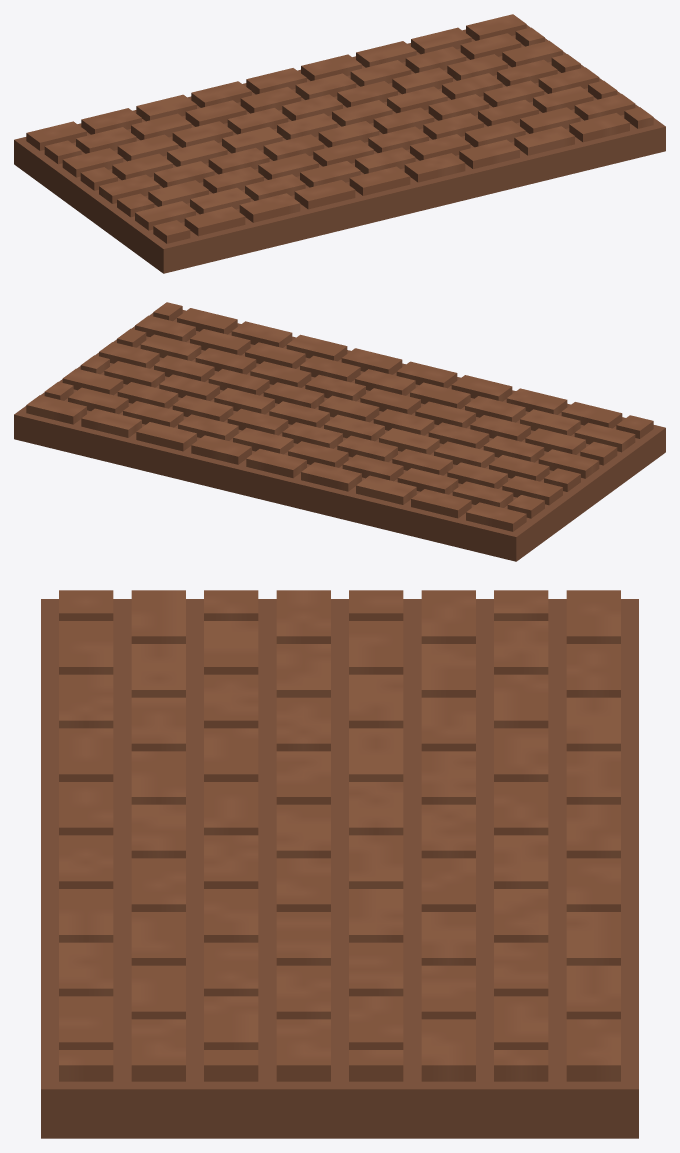
Rendered from roofpanel2.fbx.
The picture shows the model from 3 angles, top to bottom: view 1: azimuth 30°, elevation 25°; view 2: azimuth 150°, elevation 25°; view 3: azimuth 270°, elevation 25°; orthographic projection. The views are drawn at different scales.
Parts seen in each view (by area): view 1: roofpanel2; view 2: roofpanel2; view 3: roofpanel2.
Part boxes in pixels (left/top/right/bottom): roofpanel2: left=14, top=14, right=665, bottom=273; roofpanel2: left=14, top=302, right=665, bottom=561; roofpanel2: left=41, top=590, right=638, bottom=1138.
Bounding box in the file's own units: 64 × 4 × 33.
Materials: 1 (1 with a texture image).
